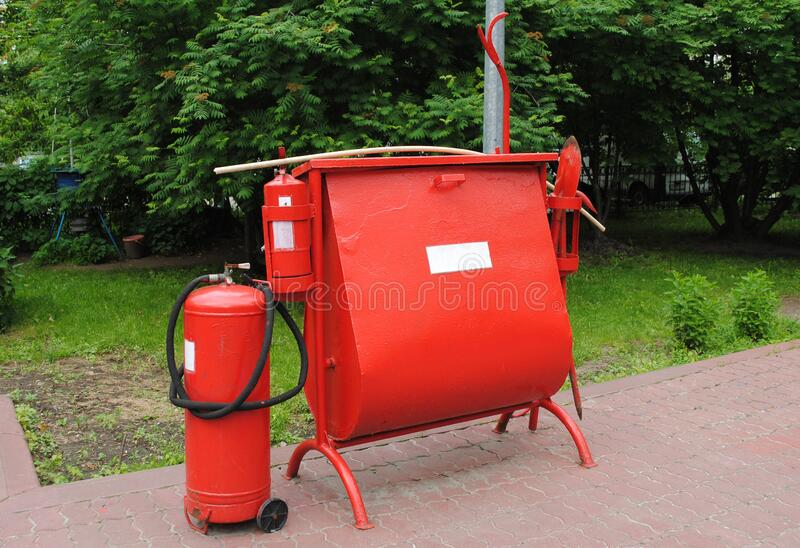fire_extinguisher: (165, 262, 307, 535), (260, 146, 315, 301)
